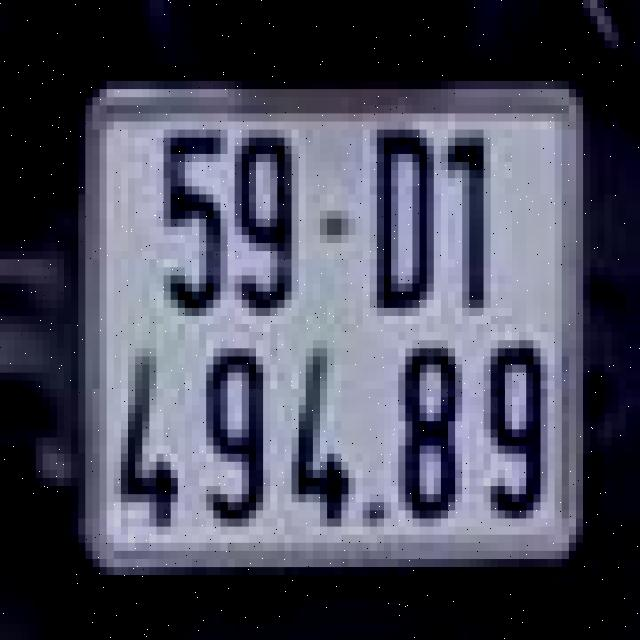1: (448, 122, 491, 324)
4: (110, 328, 188, 539), (288, 336, 352, 531)
5: (156, 105, 234, 316)
8: (394, 324, 458, 519)
9: (235, 130, 313, 324), (206, 336, 270, 531), (484, 336, 540, 531)
D: (367, 122, 438, 332)
